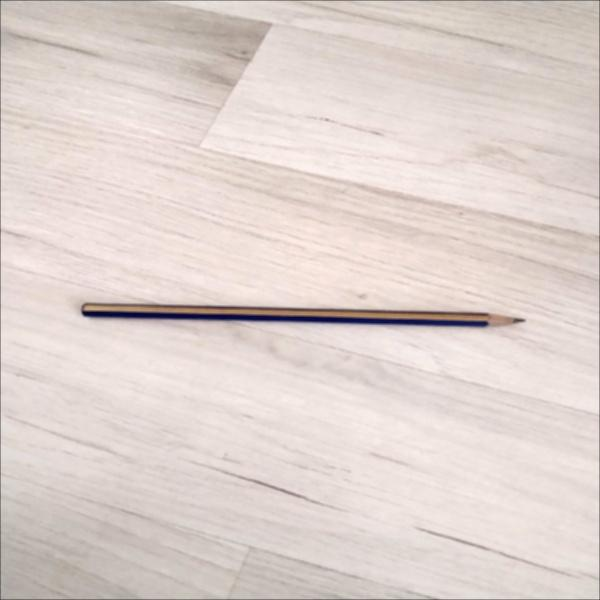pencil: (77, 295, 533, 337)
